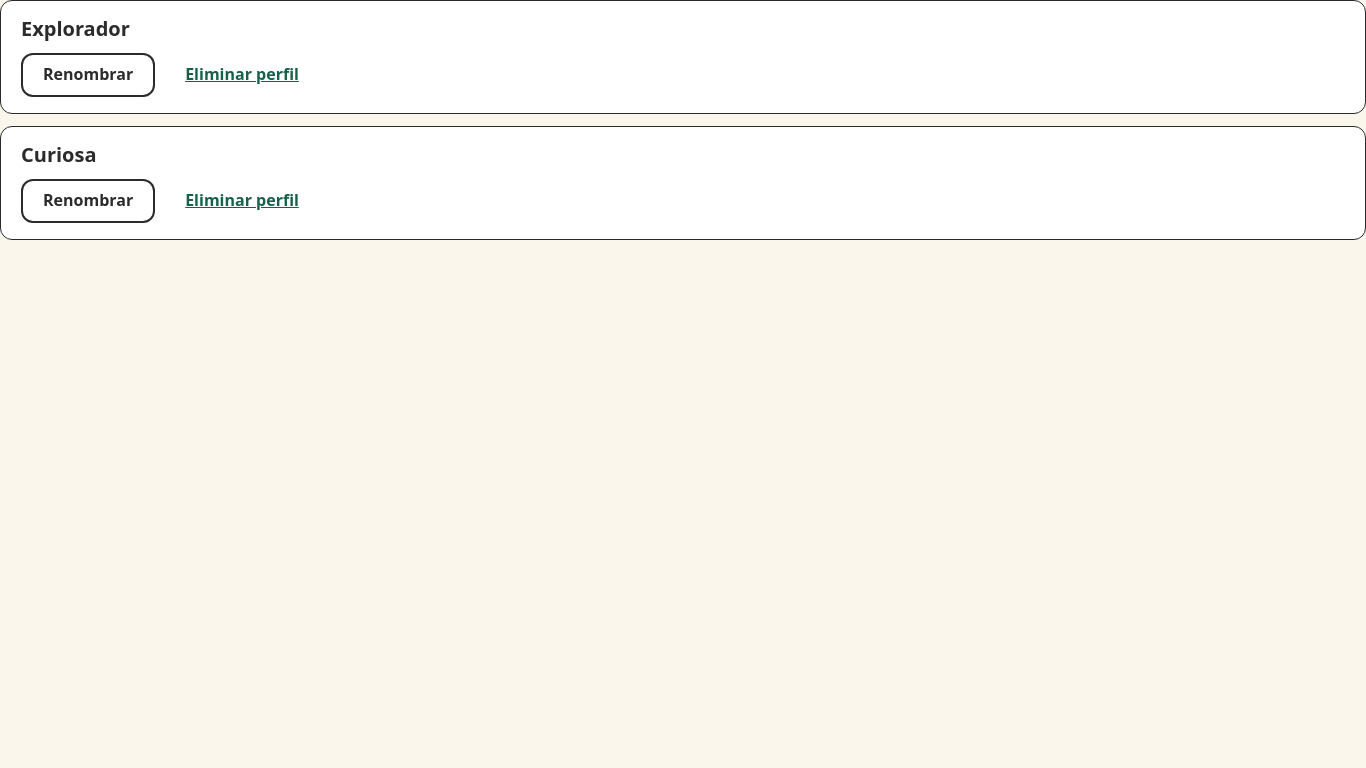
GestionEstudiantes › cancelar el borrado no elimina
The width and height of the screenshot is (1366, 768).
Click the button "Eliminar perfil" below "Explorador": x=242, y=75 [163,53,321,97]
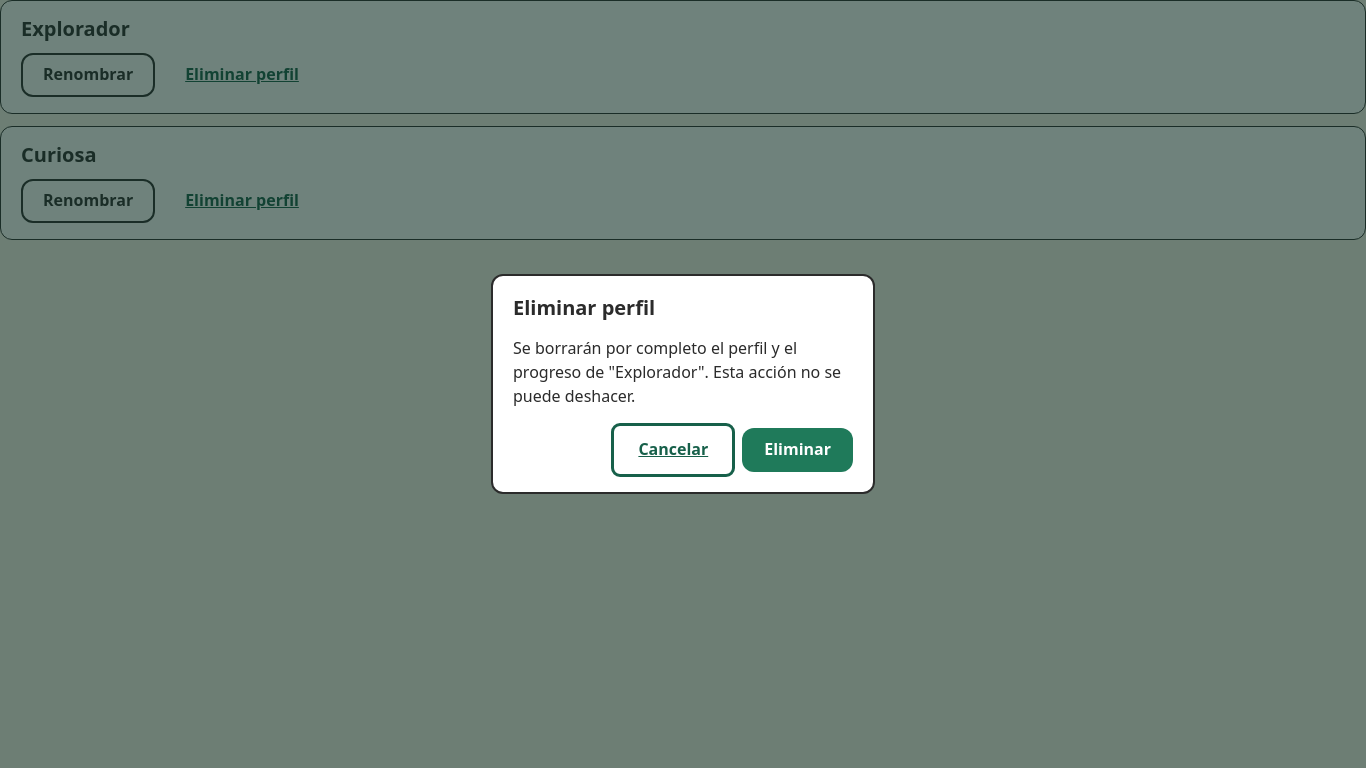
Click the button "Cancelar": x=673, y=450 [616,428,730,472]
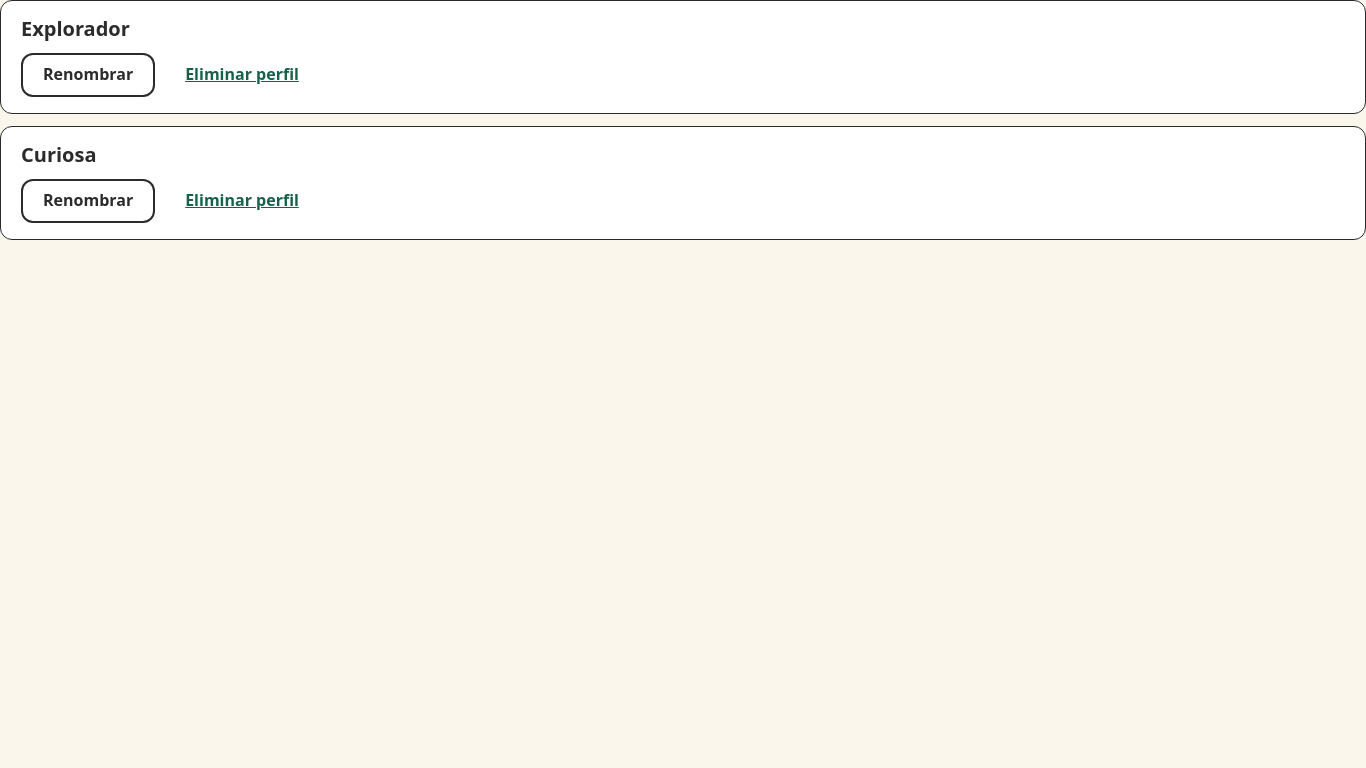
Now the dialog is gone
